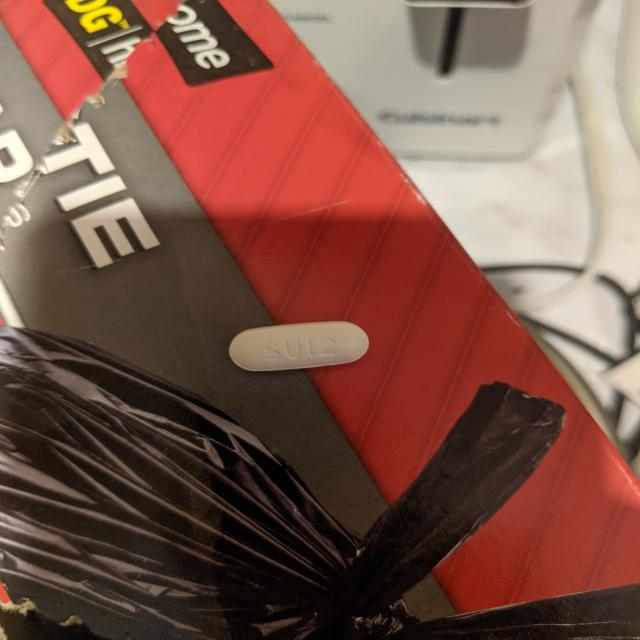non-organic waste: (227, 320, 370, 372)
